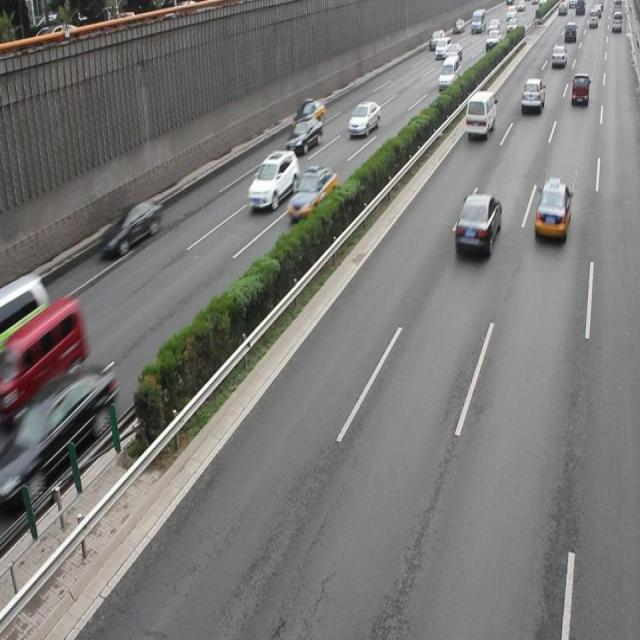car: (16, 364, 116, 498), (99, 198, 162, 258), (246, 149, 299, 210), (454, 192, 500, 258), (286, 165, 336, 219), (532, 178, 568, 242), (285, 115, 322, 156), (347, 100, 380, 136), (291, 100, 324, 132)
truck: (16, 295, 89, 404), (1, 273, 48, 360), (464, 90, 495, 140)
